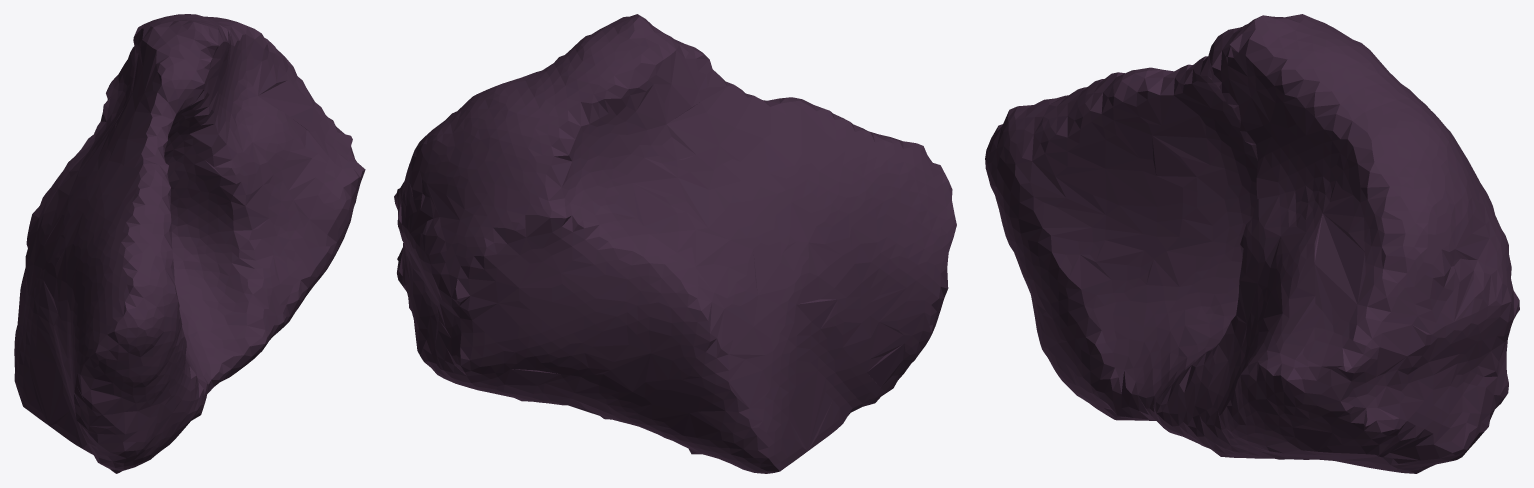
File: Model_10197_LH__Basolateral_amygdaloid_nucleus_(BL).obj
3 views of the same model, side by side, from view 1: azimuth 30°, elevation 25°; view 2: azimuth 150°, elevation 25°; view 3: azimuth 270°, elevation 25° (orthographic). The views are drawn at different scales.
Bounding box in the file's own units: 3.35 × 3.1 × 3.14.
